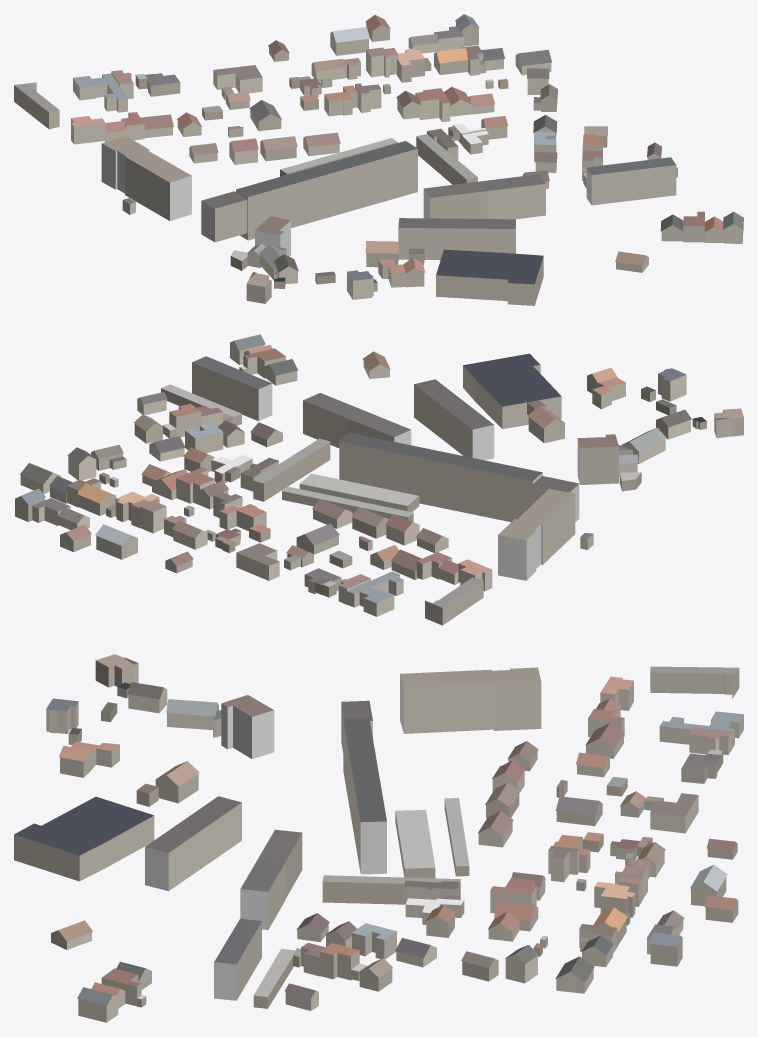
3 views of the same model, one above another, from view 1: azimuth 30°, elevation 25°; view 2: azimuth 150°, elevation 25°; view 3: azimuth 270°, elevation 25° (orthographic). The views are drawn at different scales.
Parts seen in each view (by area): view 1: tuile; view 2: tuile; view 3: tuile.
Part boxes in pixels (bbox=[...]): tuile: bbox=[14, 14, 743, 305]; tuile: bbox=[15, 334, 743, 625]; tuile: bbox=[14, 654, 743, 1022].
Bounding box in the file's own units: 257 × 34.71 × 272.
